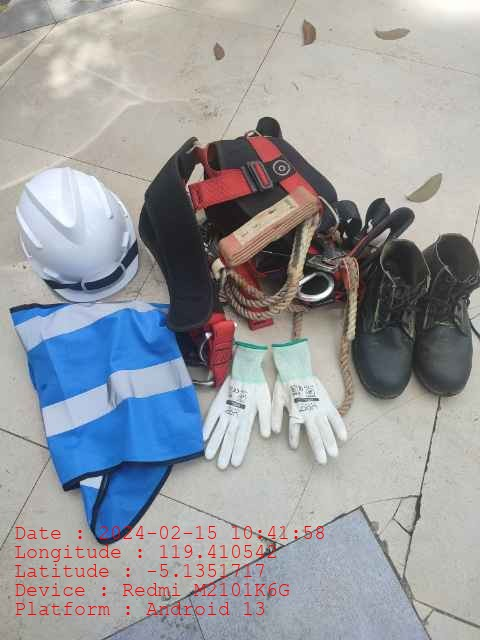HELM: (15, 167, 138, 302)
ROMPI: (8, 302, 185, 526)
SARUNG_TANGAN: (272, 339, 347, 475), (202, 339, 273, 472)
SEPATU: (354, 233, 477, 399)
